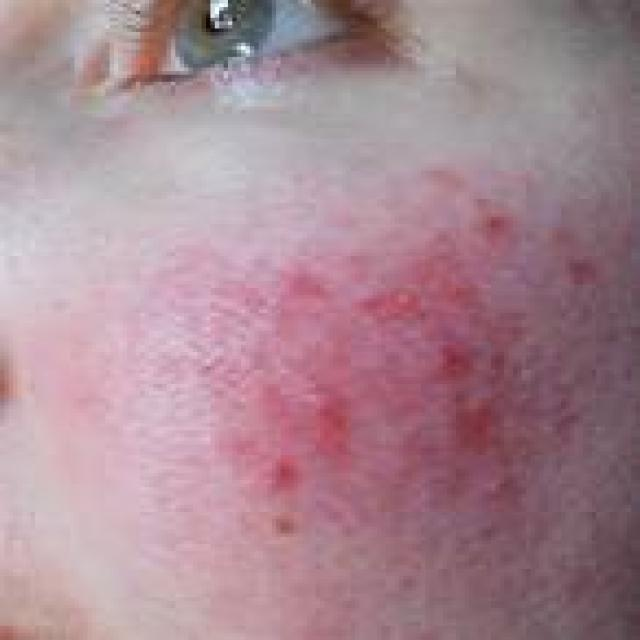Rosacea: (230, 287, 523, 471)
